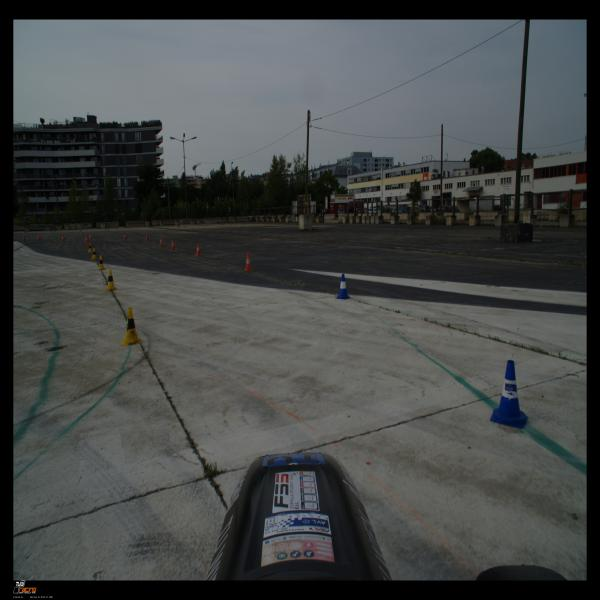blue_cone: (490, 360, 528, 429), (335, 274, 351, 299)
orange_cone: (244, 253, 253, 271), (195, 243, 202, 256), (171, 239, 176, 250), (159, 237, 164, 246), (86, 238, 91, 247), (146, 234, 150, 242), (84, 235, 88, 243), (61, 234, 65, 242), (123, 233, 127, 240), (22, 235, 26, 241), (89, 233, 92, 239), (37, 234, 40, 240)
yellow_cone: (122, 307, 142, 346), (104, 269, 118, 291), (97, 255, 106, 270), (91, 248, 98, 260), (87, 243, 93, 253)
